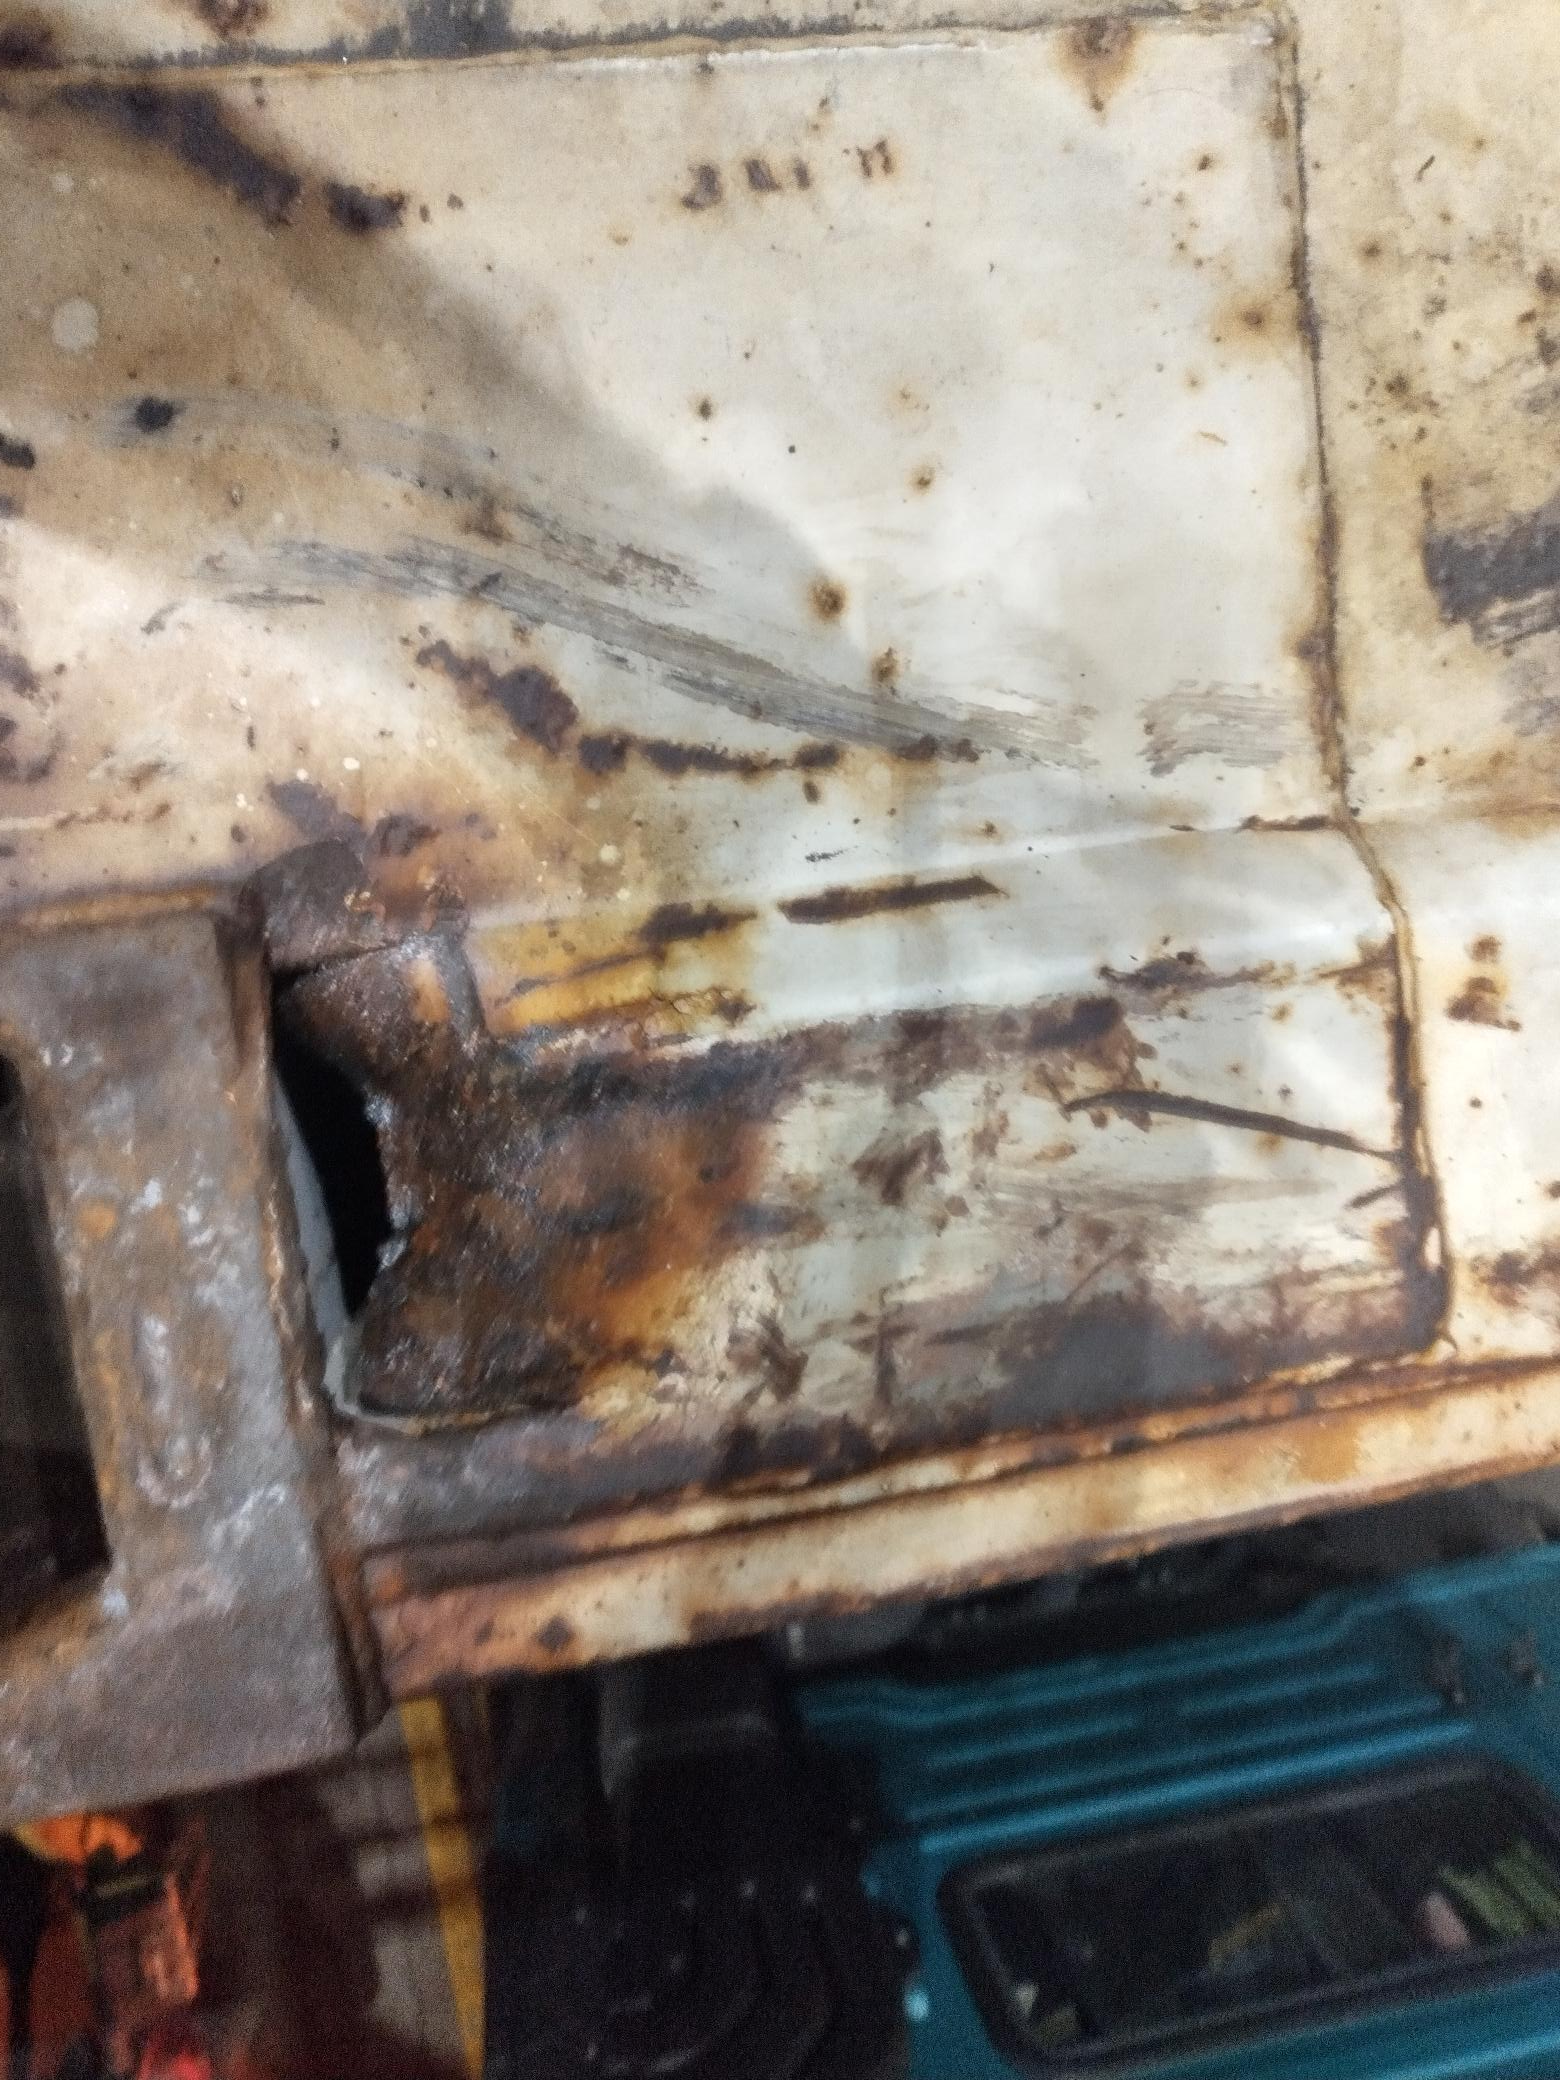cut: (184, 765, 642, 1531)
